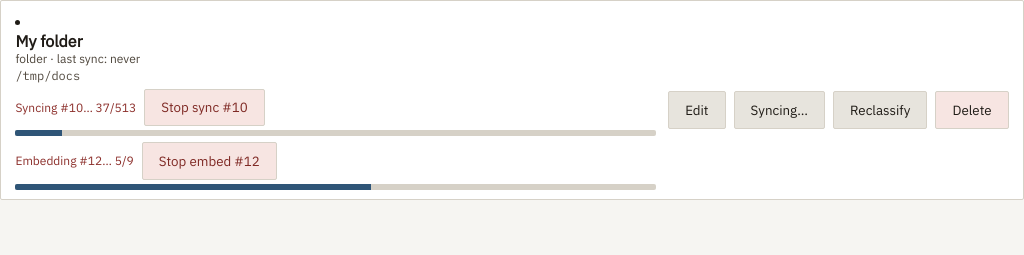
Test: per-job Stop controls (R30.4) › shows the kept count after stopping a running job, and errors inline
The width and height of the screenshot is (1024, 255).
Click the button "Stop sync #10".
click(204, 107)  # box [144,89,265,126]
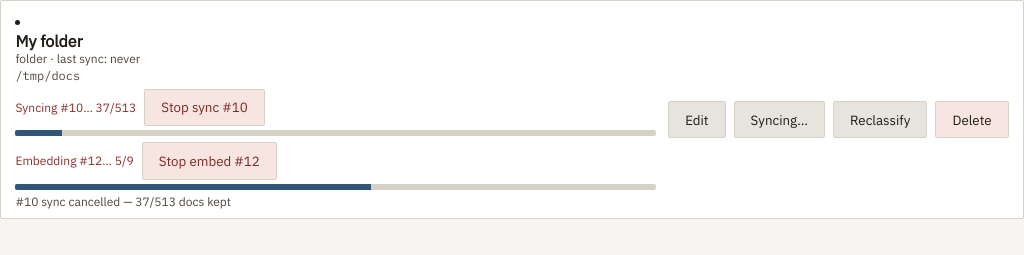
Click the button "Stop embed #12".
click(209, 161)  # box [142,142,277,180]
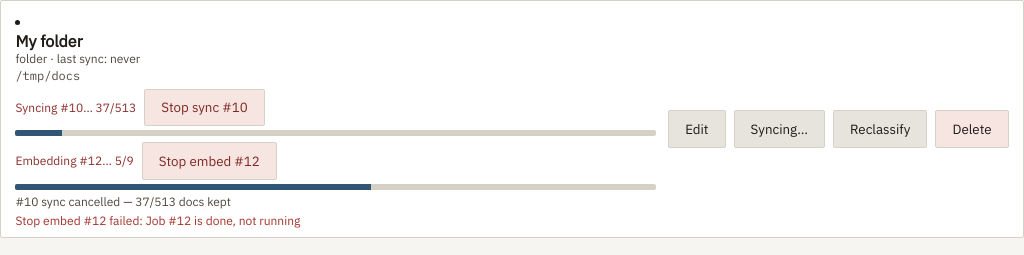
Now the text "#10 sync cancelled — 37/513 docs kept" is shown, box [15,194,231,209]
Now the text "Stop embed #12 failed: Job #12 is done, not running" is shown, box [15,213,300,228]
